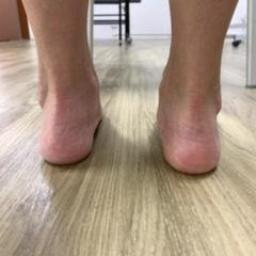Back View -Both Feet-: (24, 51, 232, 185)
